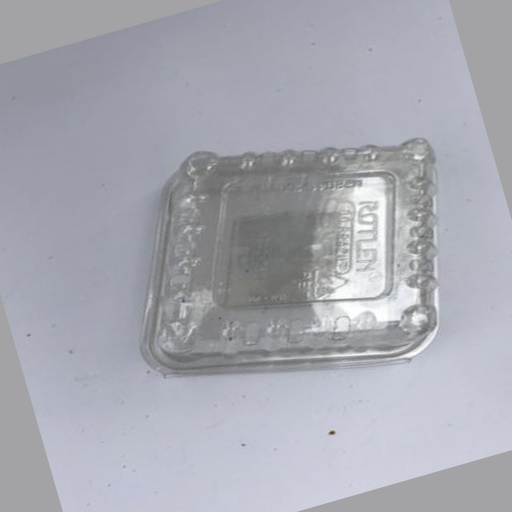Plastic_4: (143, 141, 441, 369)
